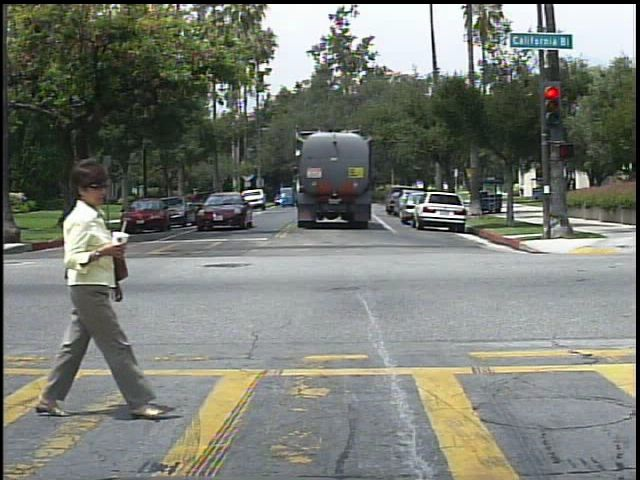person: (36, 151, 133, 423), (564, 172, 582, 204), (517, 180, 530, 200)
